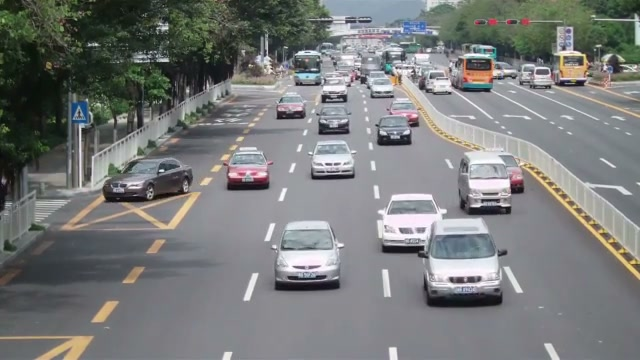bus: (451, 54, 495, 92), (292, 50, 323, 86)
car: (418, 217, 508, 307), (269, 220, 345, 291), (375, 193, 447, 253), (102, 156, 193, 201), (457, 151, 512, 215), (225, 149, 272, 190), (309, 140, 356, 180), (375, 115, 412, 146), (498, 153, 525, 194), (317, 104, 351, 134), (388, 98, 420, 127), (276, 93, 307, 119), (422, 70, 452, 95), (368, 76, 394, 98)
truck: (451, 54, 494, 92), (552, 51, 589, 86), (519, 64, 554, 89)
